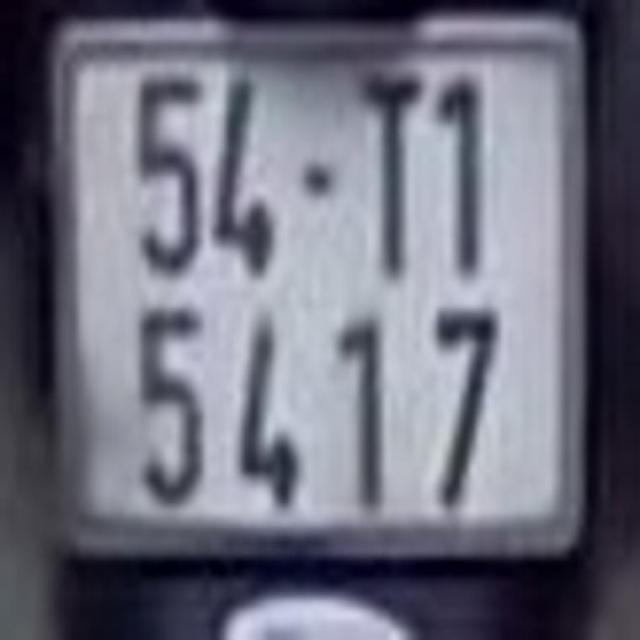1: (331, 309, 388, 506), (434, 70, 486, 276)
4: (232, 301, 302, 506), (210, 71, 273, 275)
5: (139, 298, 205, 503), (136, 74, 203, 273)
7: (429, 301, 502, 506)
T: (356, 66, 423, 281)
